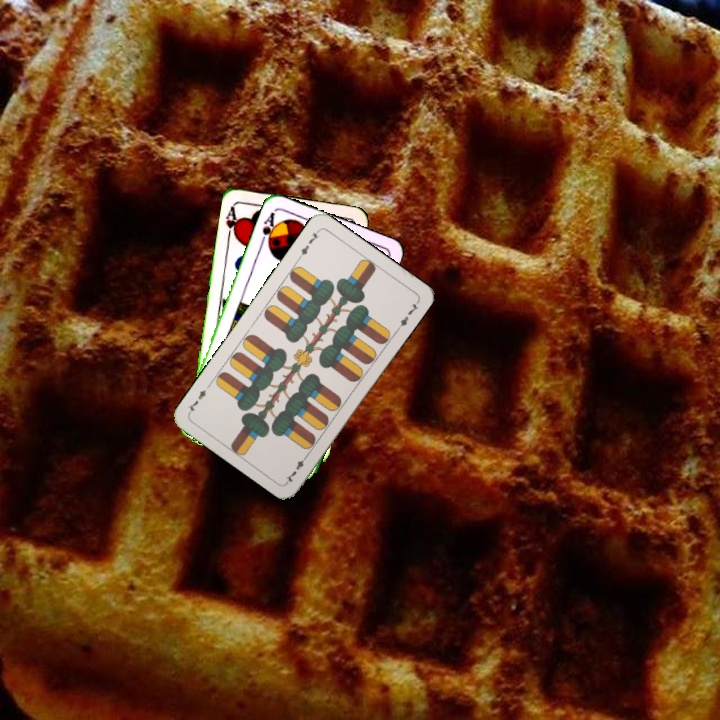E7: (282, 450, 311, 485), (294, 226, 322, 262)
HA: (222, 202, 242, 242)
SA: (256, 208, 281, 249)
